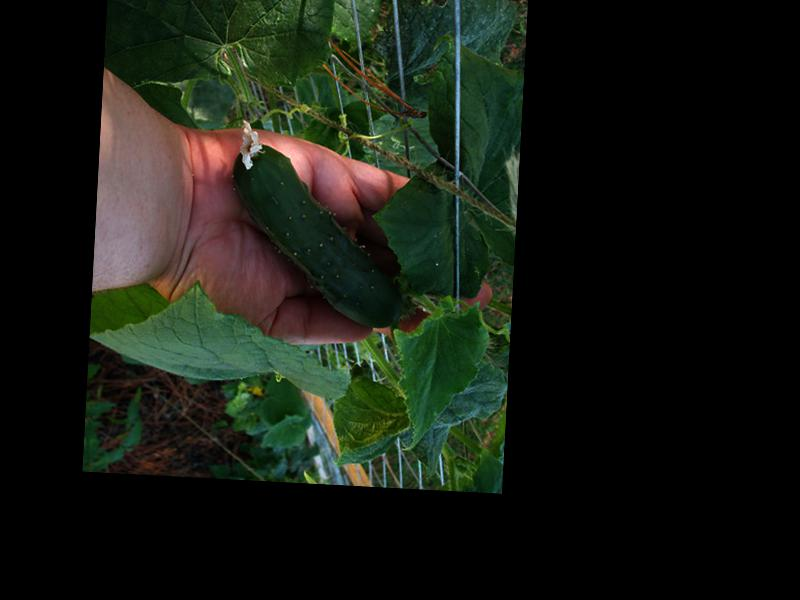Cucumber: (225, 118, 412, 327)
